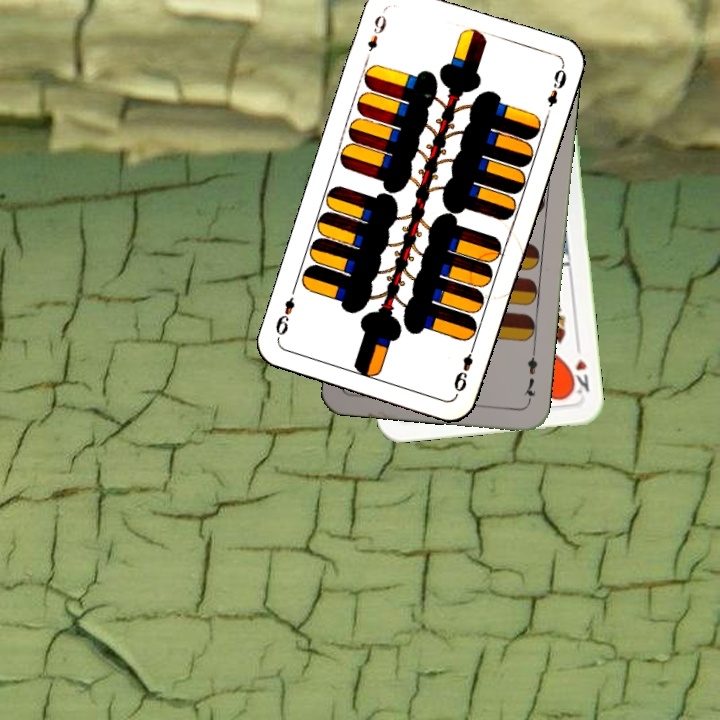E7: (519, 347, 540, 406)
E9: (449, 340, 478, 395), (363, 7, 389, 54)
HK: (565, 340, 592, 396)
